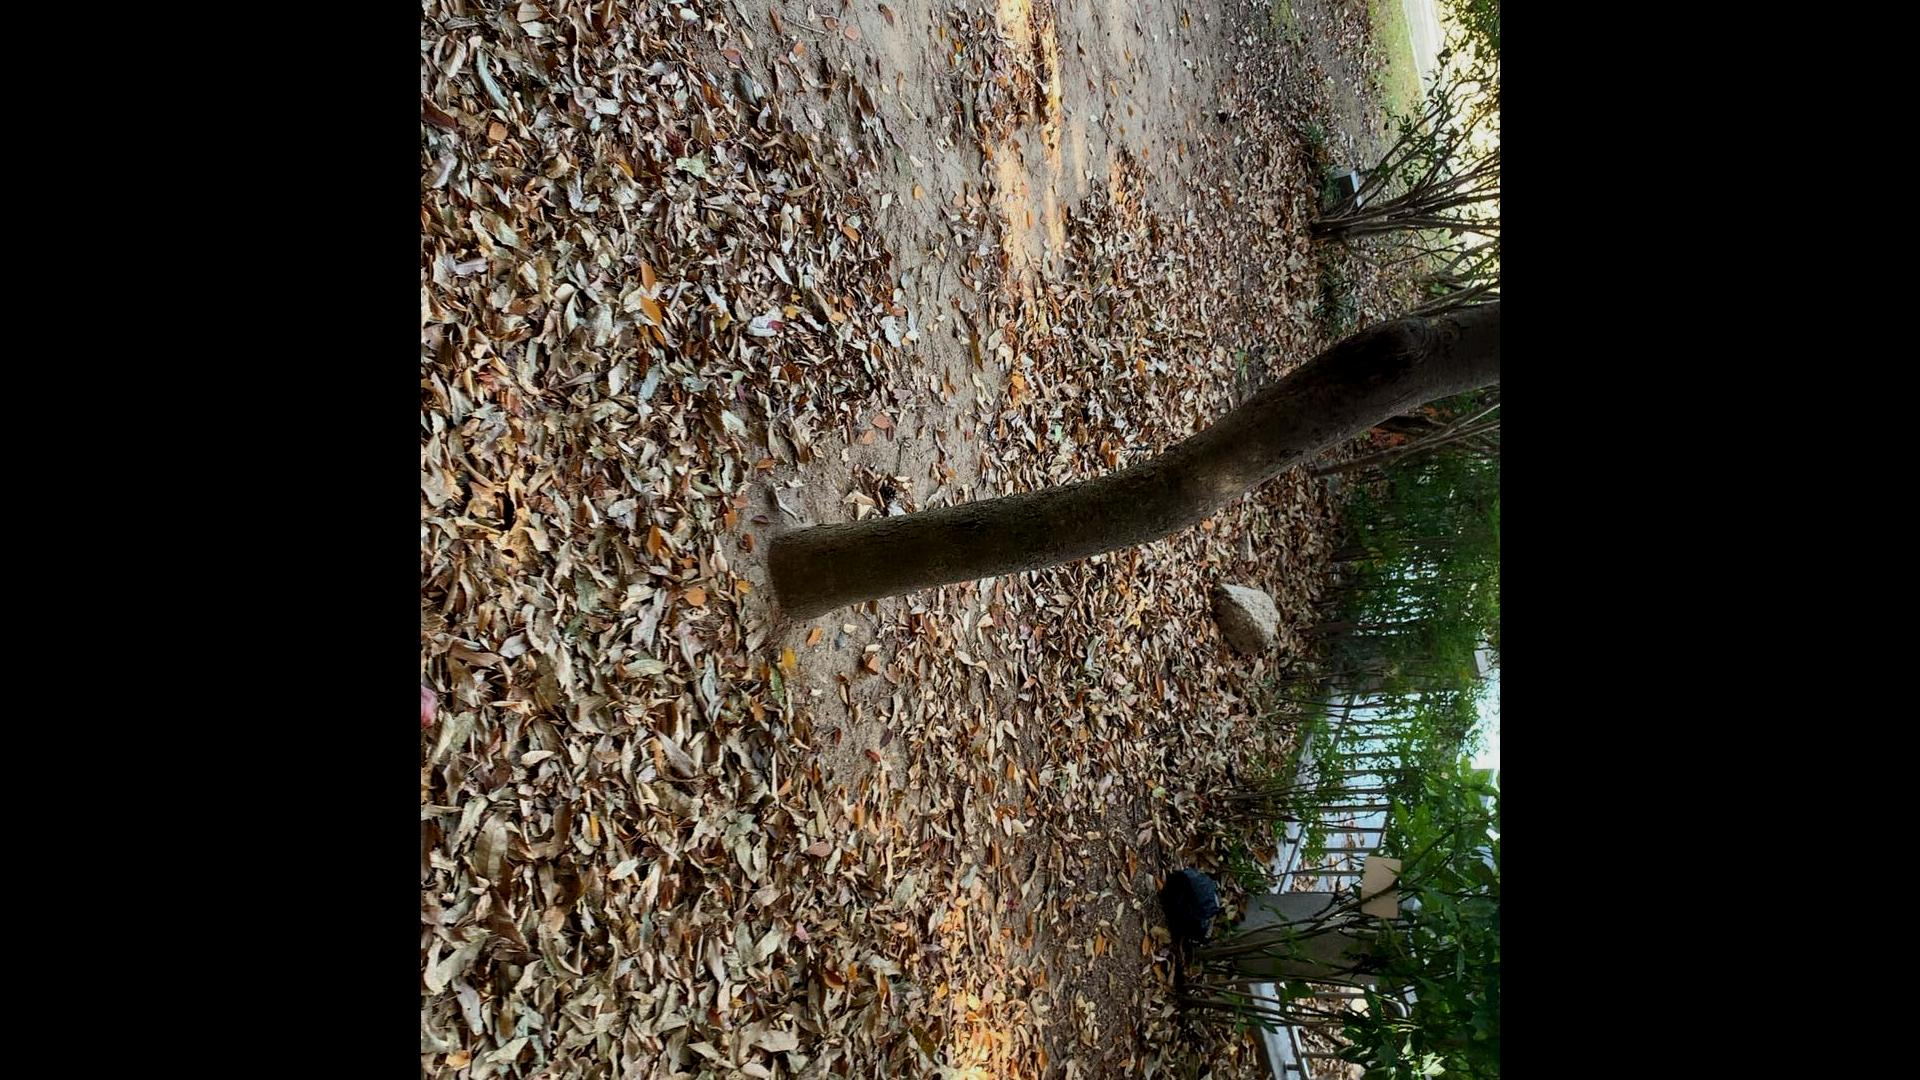black_bag: (1160, 862, 1225, 945)
